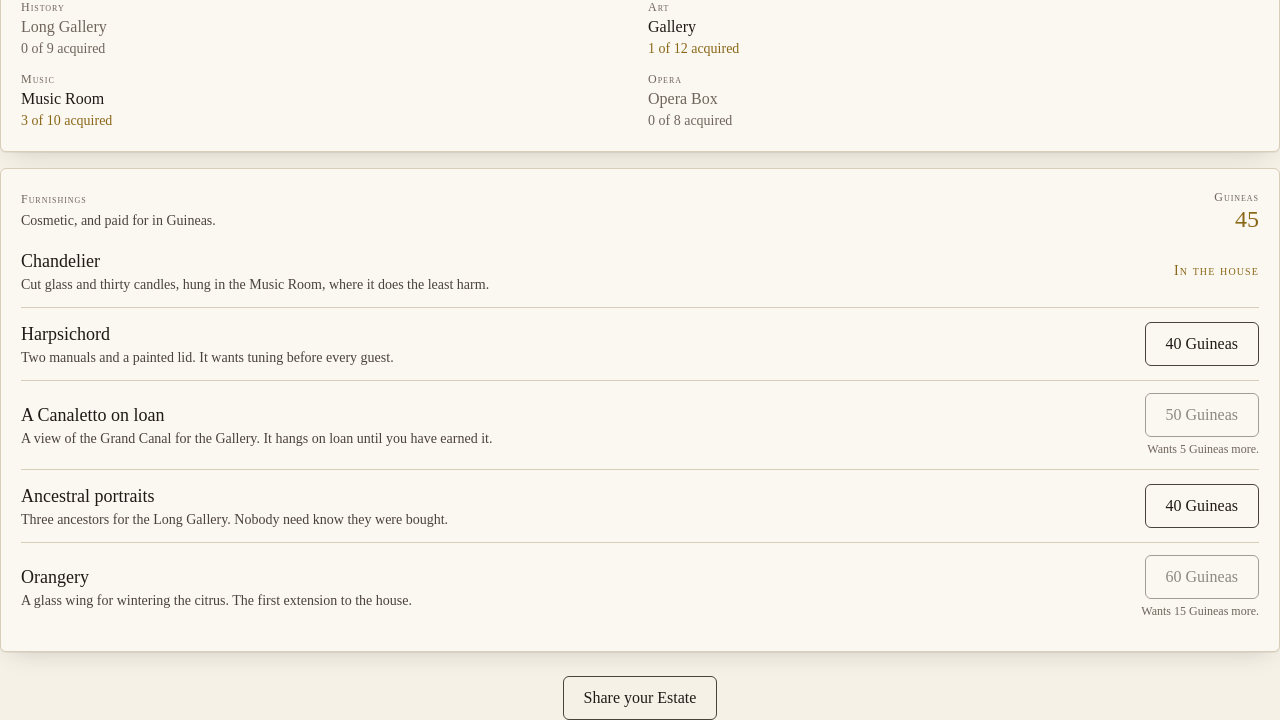
Test: EstateScreen › says so when the card cannot be drawn
(page scrolled)
Click the button with test id "share-estate".
click(640, 698)  # box [563,676,718,719]
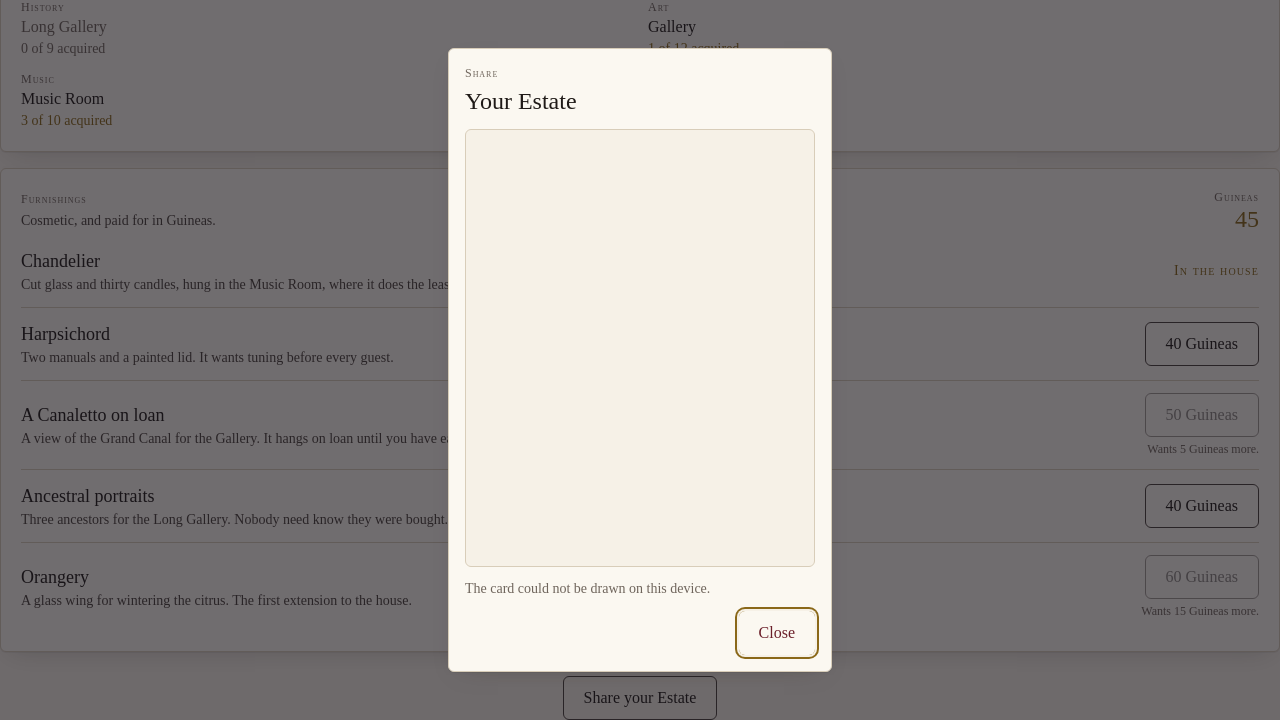
Result: the text with test id "share-status" reads "The card could not be drawn on this device." at [465,581,710,596]
Result: the button with test id "share-close" is shown at [738,611,815,655]
